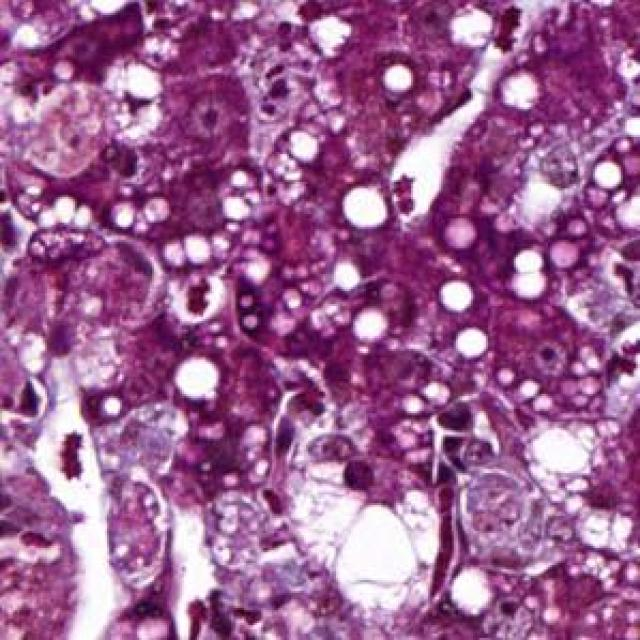ballooning: (276, 449, 450, 623)
